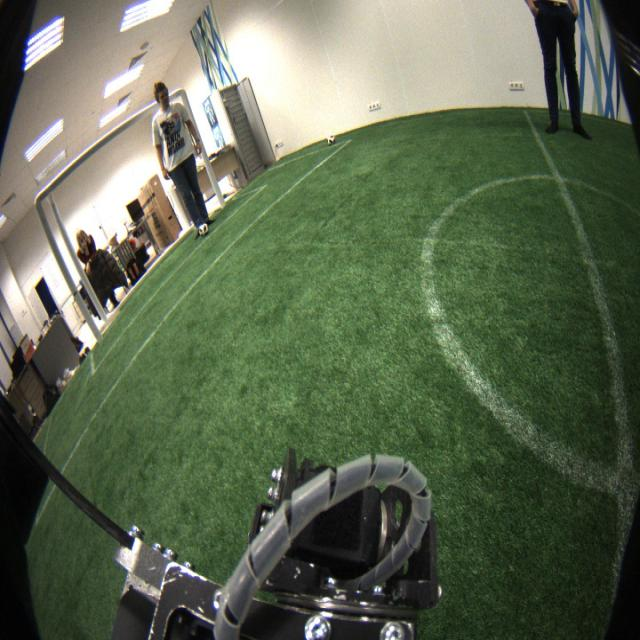ball: (198, 223, 209, 237), (327, 135, 335, 145)
goalpost: (22, 195, 103, 344), (178, 87, 226, 210)
